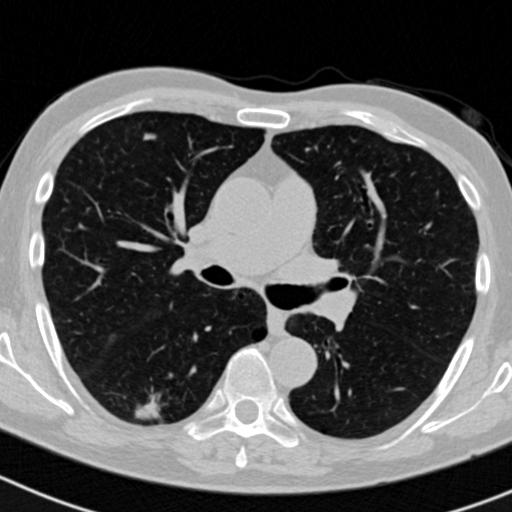nodule: (141, 129, 157, 145)
